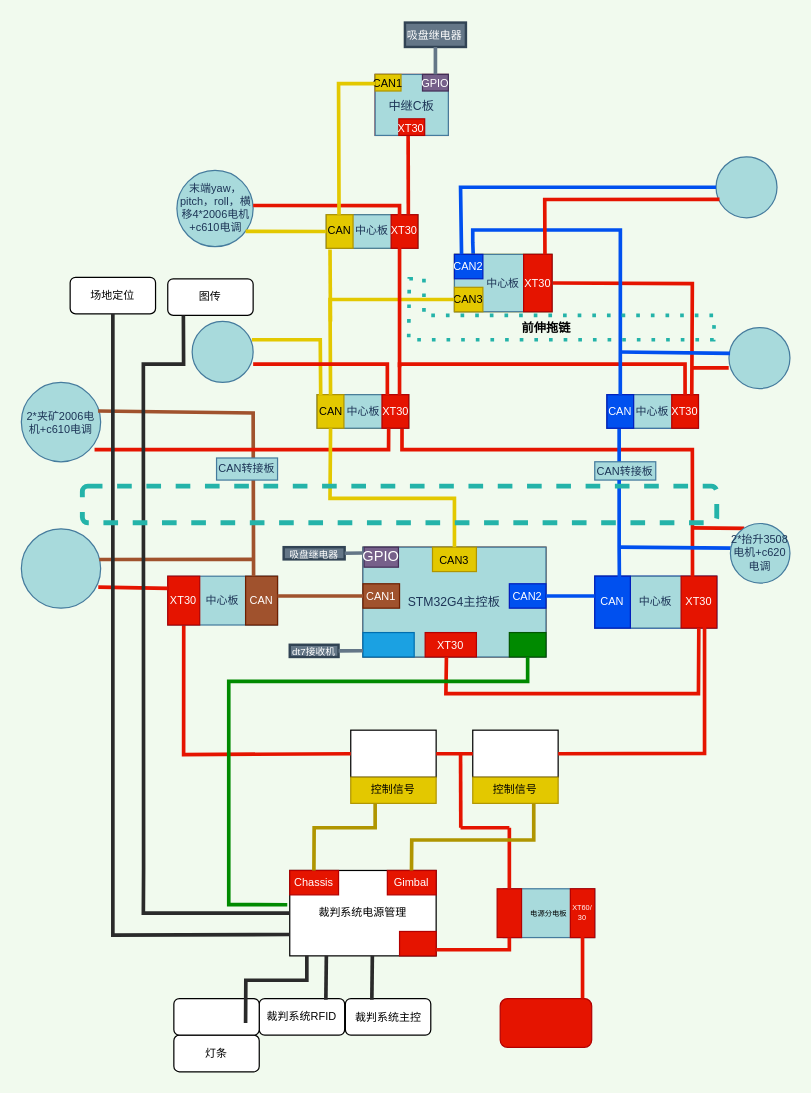
This 811x1093 diagram has some shape labels left out. The shapes that lost their labels are listed below. From the top down, each one's centre as x and y in pixels, then its label:
At (746,187): "2*小前伸2006电机+c610电调".
At (222,351): "云台yaw，pitch2*2006电机+c610电调".
At (759,357): "2*大前伸2006电机+c610电调".
At (399,504): "抬升拖链".
At (60,568): "4*驱动轮3508电机+c620电调".
At (388,644): "Dbus".
At (527,644): "串口".
At (393,753): "Chassis继电器".
At (515,753): "Gimbal继电器".
At (509,913): "XT60 /30".
At (417,943): "供电".
At (216,1016): "装甲板".
At (545,1022): "电源".
